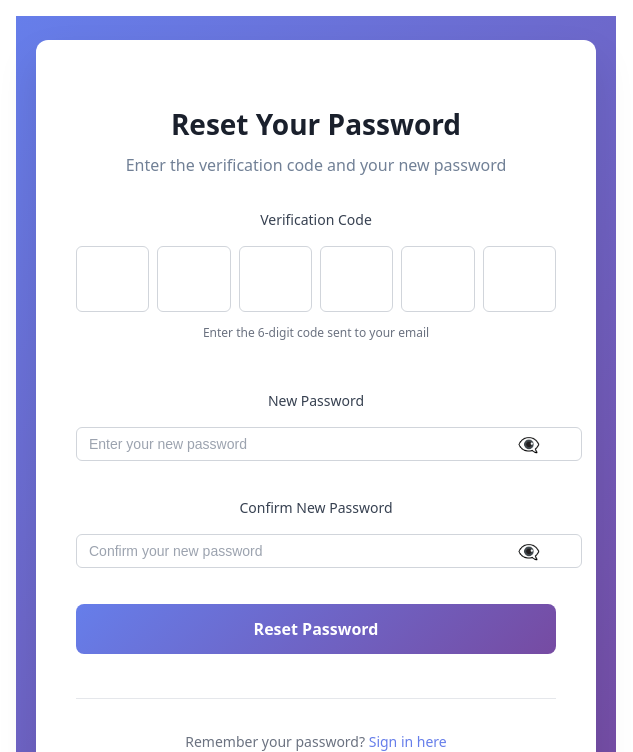
Test: ResetPasswordForm › validates OTP code length
Type "123" into the 1st field at [113, 279], box top-left (76, 246), bottom-right (149, 312)
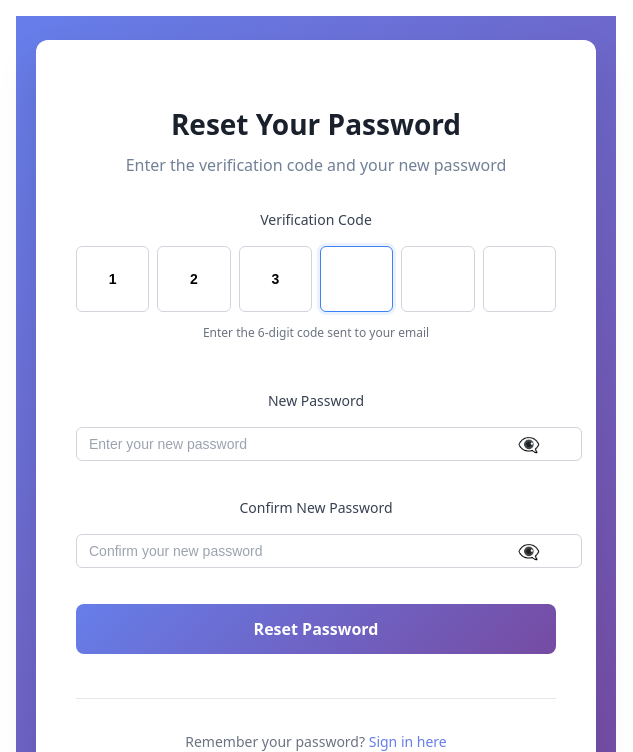
Click the button "Reset Password" at [316, 629], box top-left (76, 604), bottom-right (556, 654)
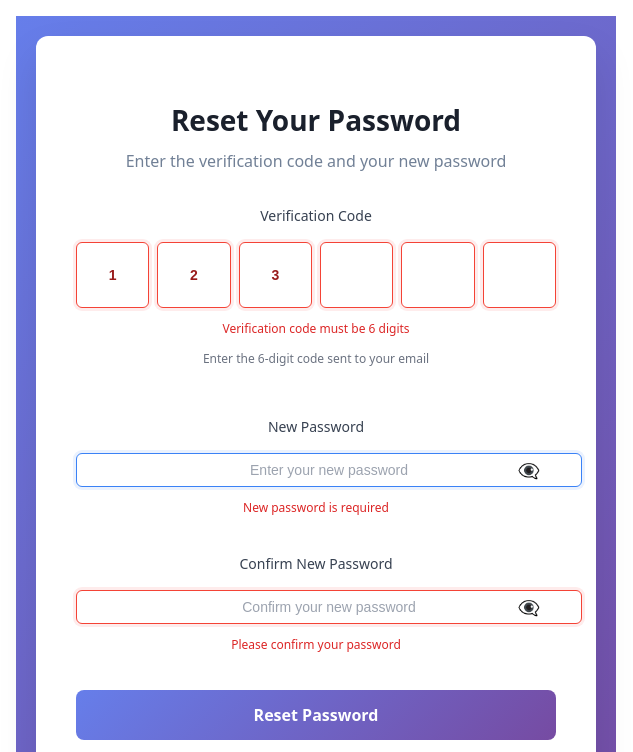
Check: the text "Verification code must be 6 digits" is shown, box top-left (222, 320), bottom-right (410, 338)
